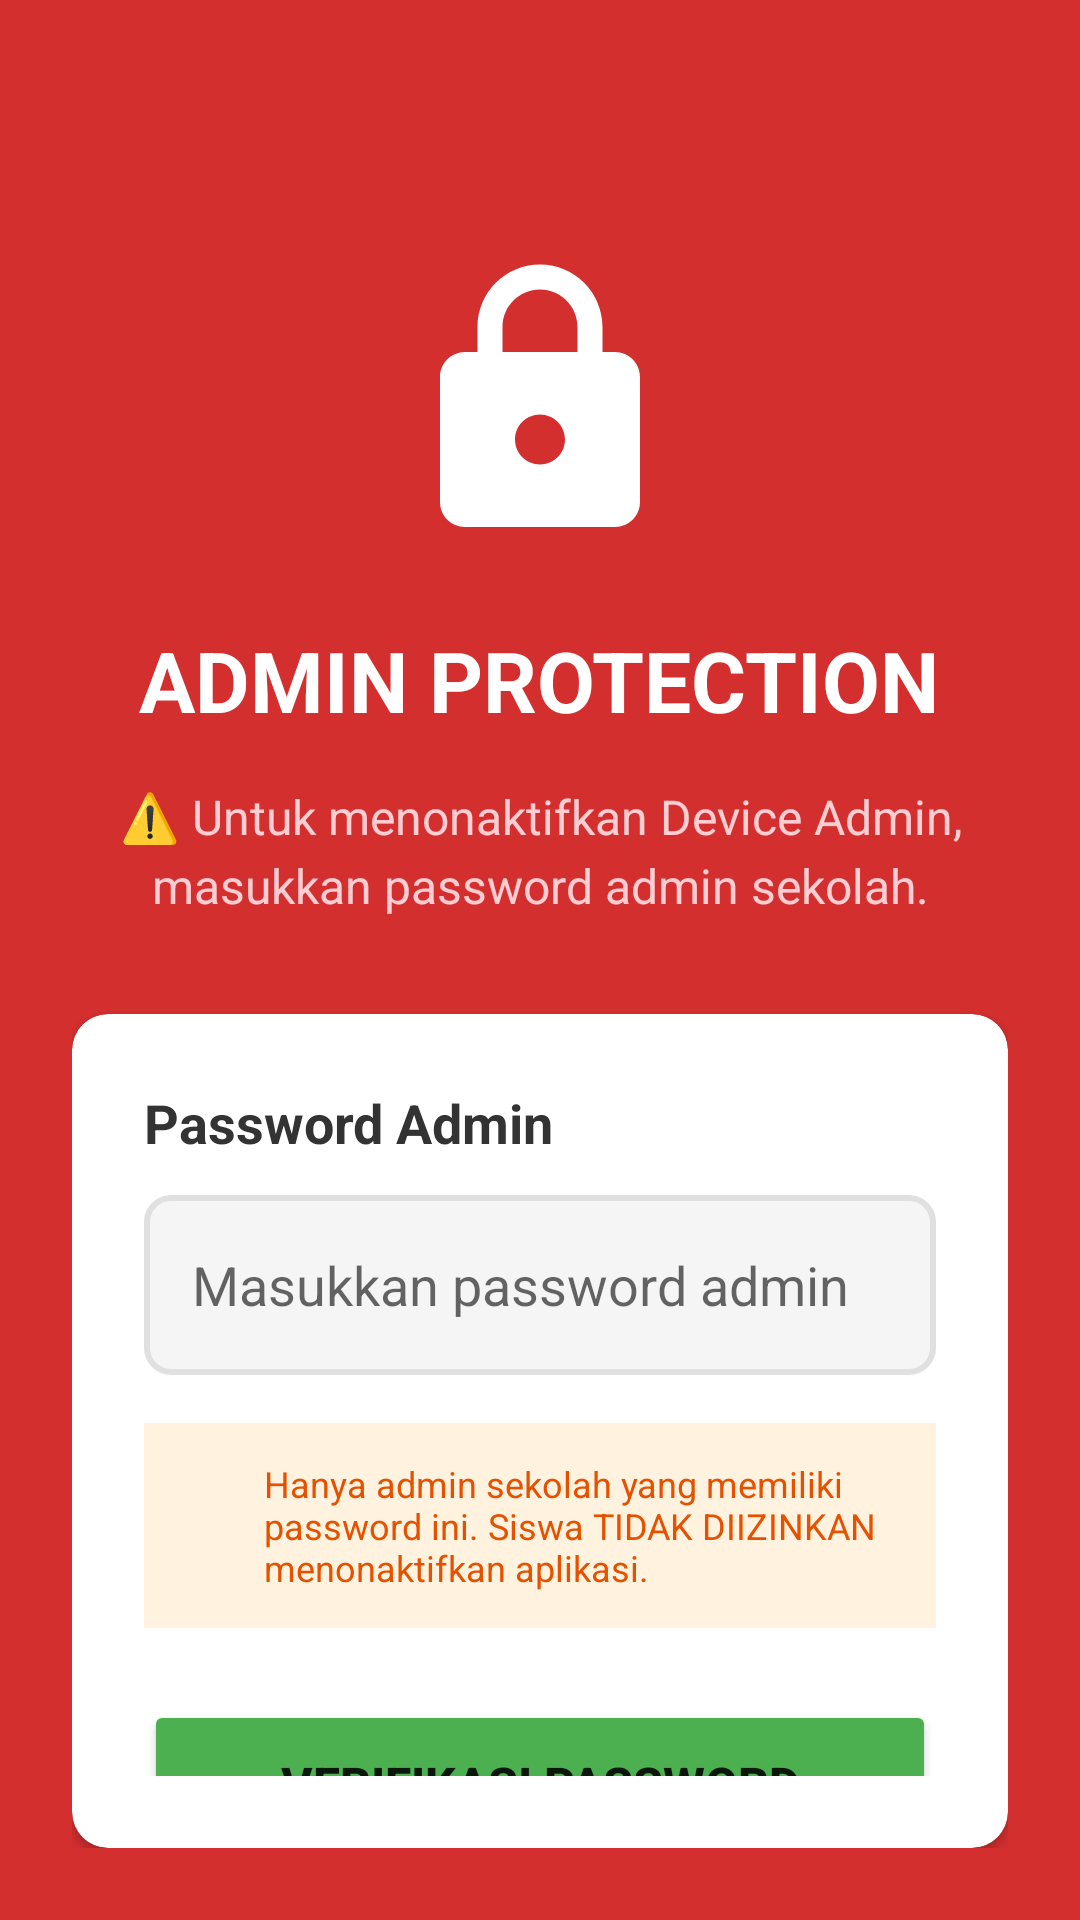

Icons on this 1080 x 1920 Android screen, each with the point to tap as (x,y):
lock: (540,395)
